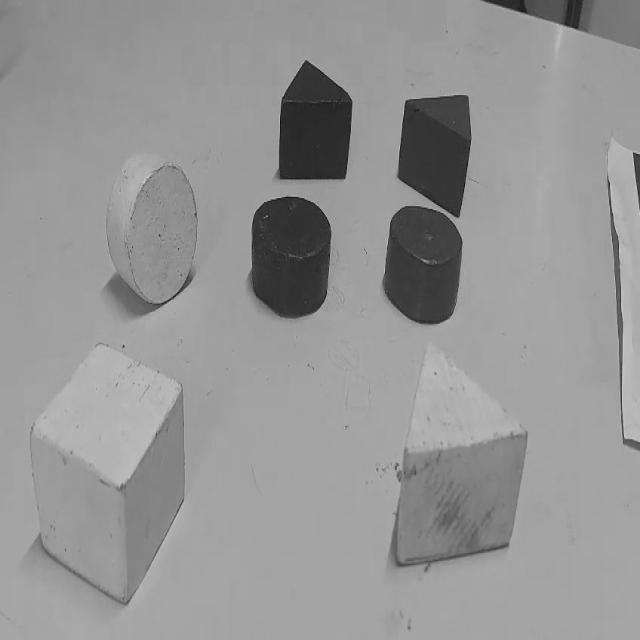bcircle: (251, 194, 333, 318)
btriangle: (279, 60, 354, 184)
rcircle: (384, 205, 464, 326)
rtriangle: (398, 94, 473, 220)
ycircle: (106, 152, 198, 306)
ycube: (30, 342, 187, 606)
ytriangle: (397, 343, 528, 565)
